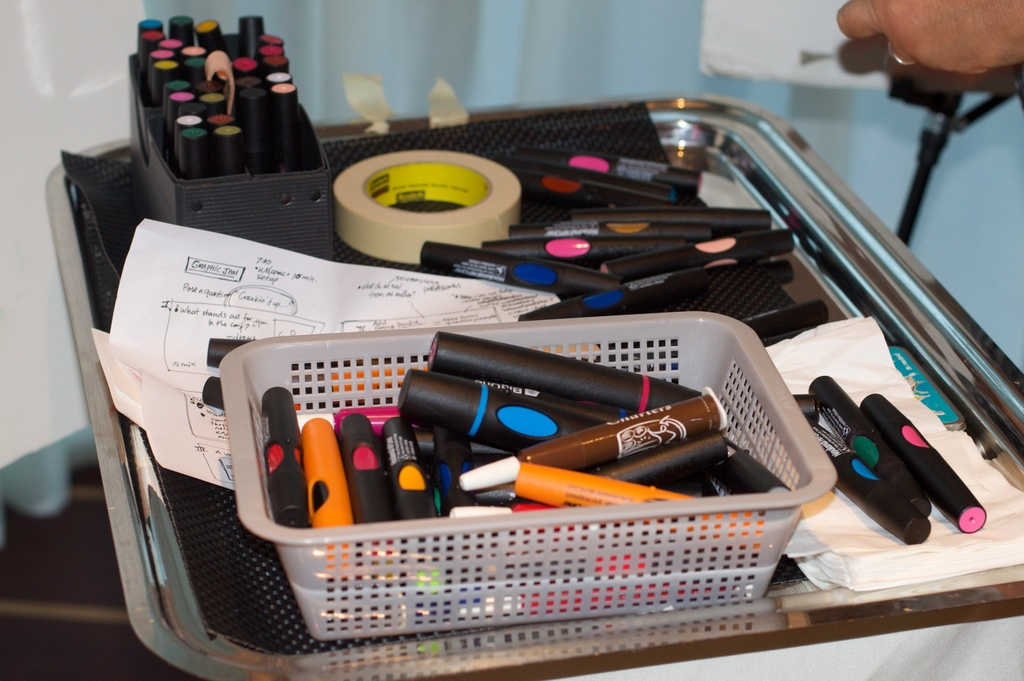Pen: (264, 327, 813, 641), (416, 119, 793, 317), (805, 367, 994, 565), (135, 9, 318, 195)
